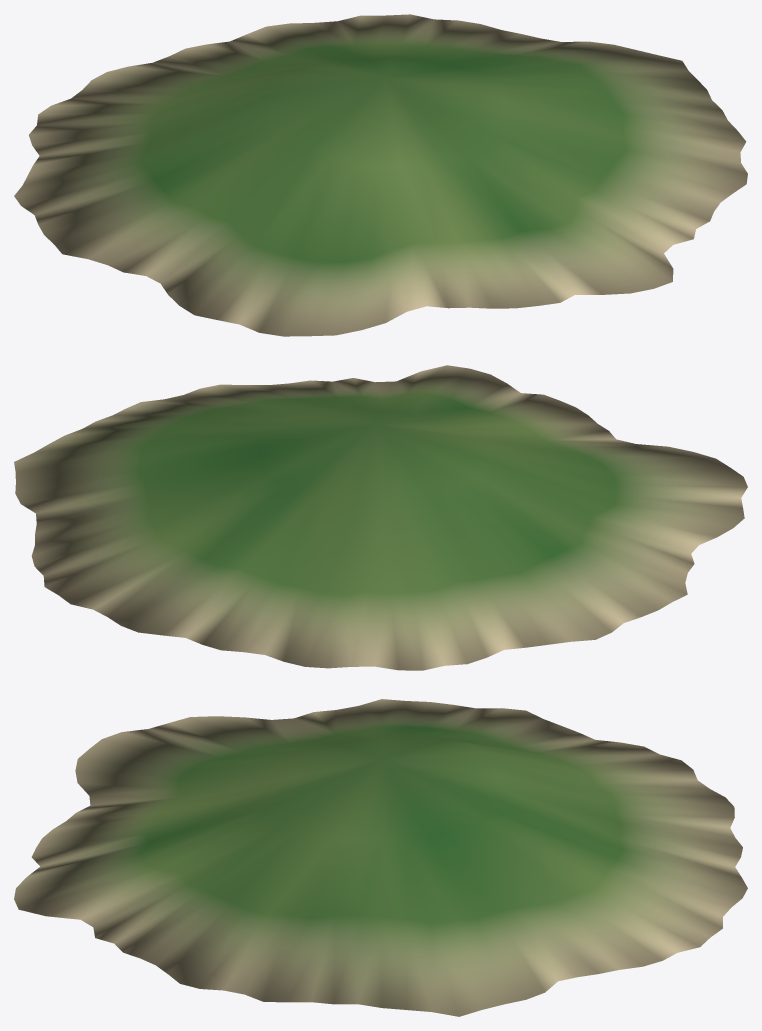
Rendered from Island_Far_B.glb.
3 views of the same model, one above another, from view 1: azimuth 30°, elevation 25°; view 2: azimuth 150°, elevation 25°; view 3: azimuth 270°, elevation 25° (orthographic). The views are drawn at different scales.
Visible parts, largest first — view 1: Island_Far_B; view 2: Island_Far_B; view 3: Island_Far_B.
Boxes of the visible parts, box(x1,y1,x2,y2) form: Island_Far_B: box(14, 14, 747, 336); Island_Far_B: box(14, 365, 747, 670); Island_Far_B: box(14, 699, 747, 1016).
Bounding box in the file's own units: 305 × 43.04 × 293.
